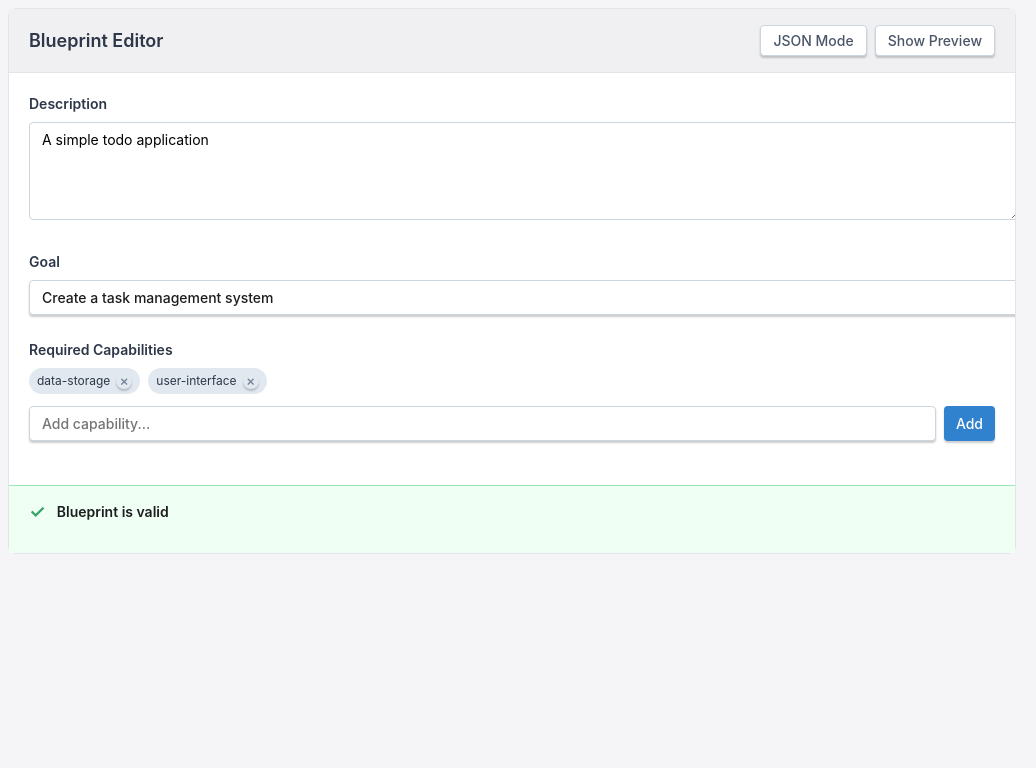
Test: BlueprintEditor › shows preview when preview toggle is clicked
Step 1. Click the button "Show Preview" → (935,40), box [875,25,995,56]
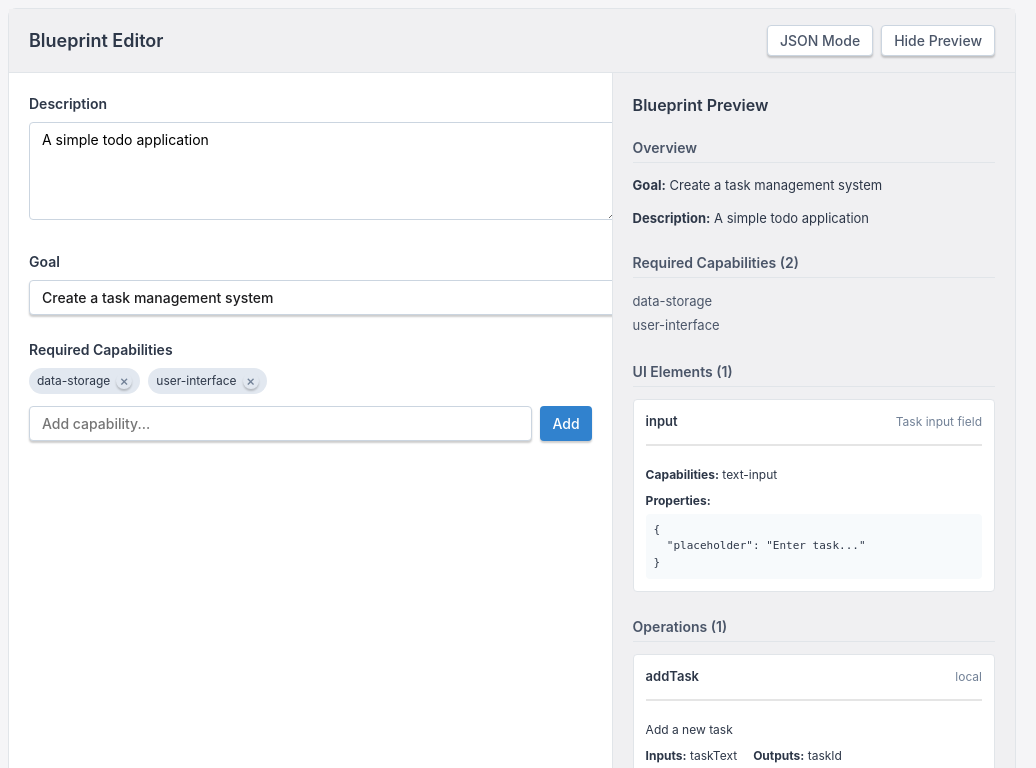
Expected: the heading "Blueprint Preview" is shown, [633,95,768,115]
Expected: the button "Hide Preview" is shown, [881,25,995,56]
